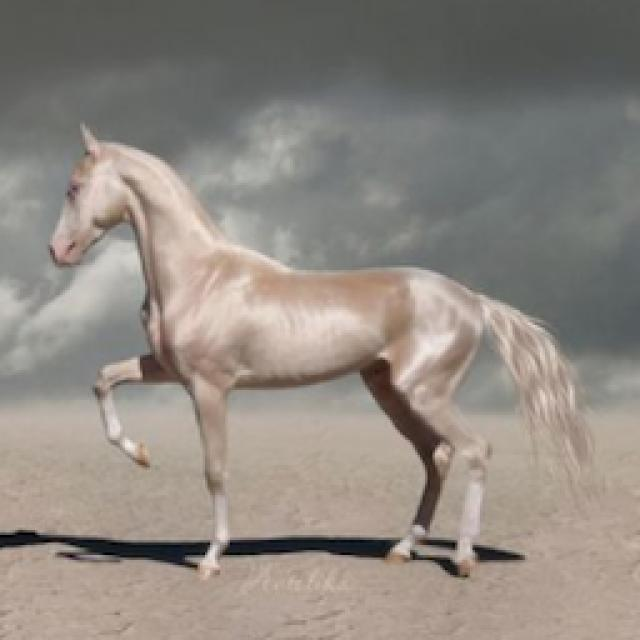Horse: (37, 115, 605, 585)
